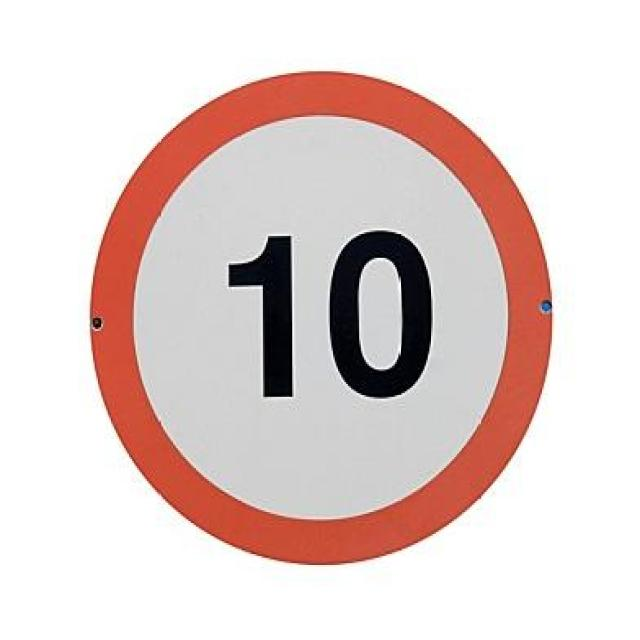speed limit 10: (87, 70, 555, 566)
